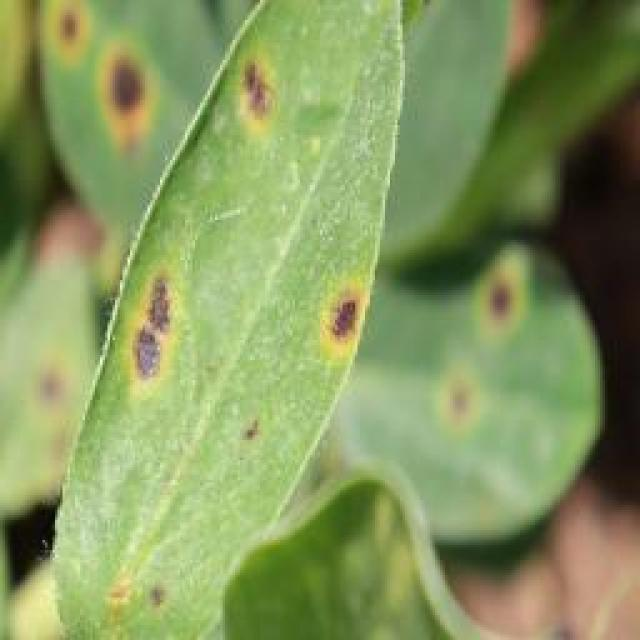Sigatoka: (110, 262, 186, 385), (70, 47, 156, 145), (458, 248, 534, 336), (314, 280, 376, 358), (434, 363, 488, 443), (230, 51, 276, 130), (114, 567, 176, 622), (44, 4, 90, 41), (222, 428, 276, 456)
